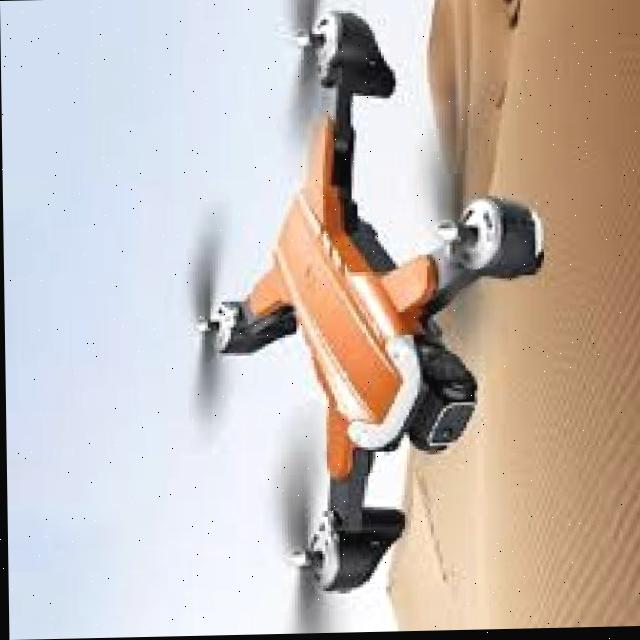drone: (144, 0, 547, 637)
